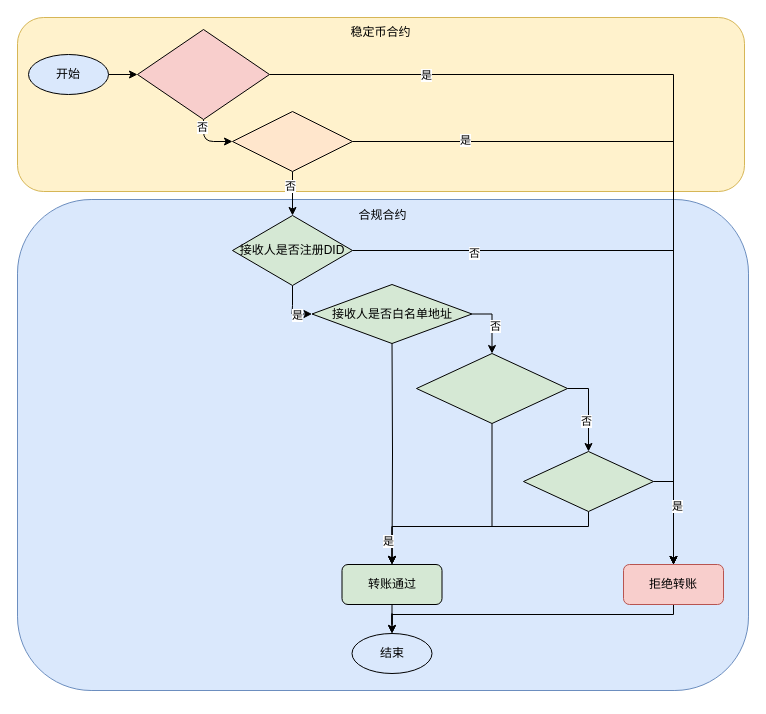
Image size: 766x714. Some labels were removed from this diagram. The shapes that lost their labels are listed below. From the top down, each one's centre as x and y in pixels, then its label:
point (203, 74): 是否黑名单 (制裁名单、反洗钱)
point (292, 141): 是否司法冻结
point (492, 388): 是否审核通过的交易请求
point (588, 481): 是否低于24小时 累计限额
